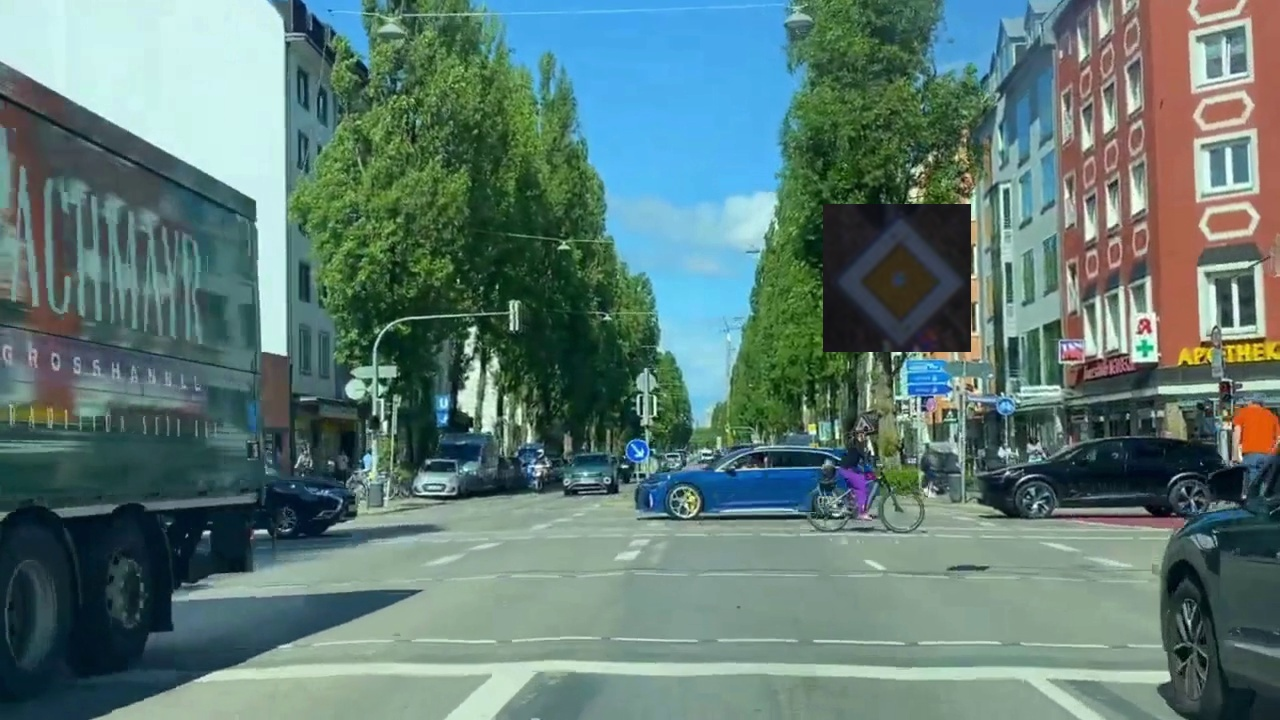Priority road: (823, 204, 971, 352)
